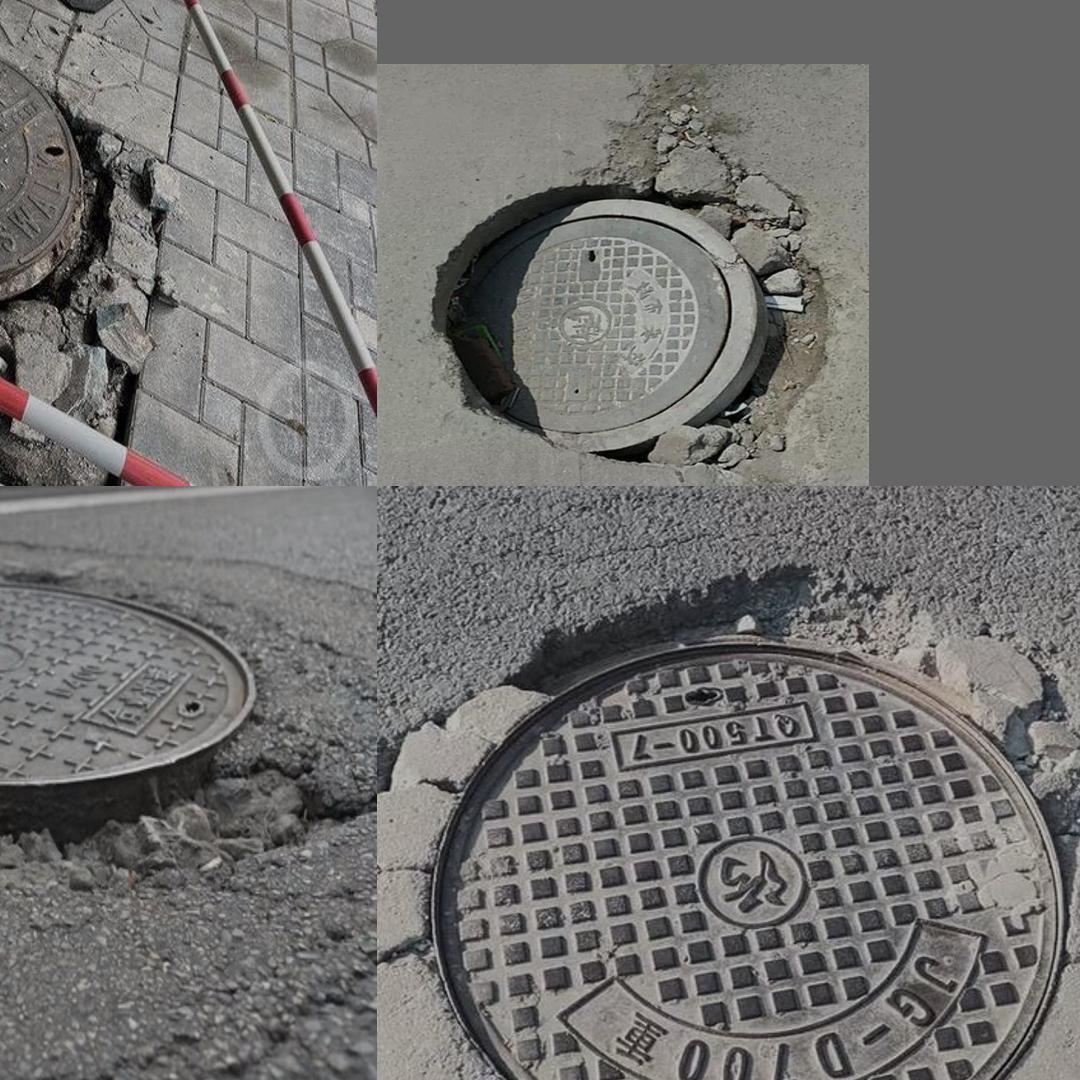circle: (400, 586, 1080, 1080), (0, 539, 365, 962), (433, 97, 820, 460), (0, 0, 154, 460)
